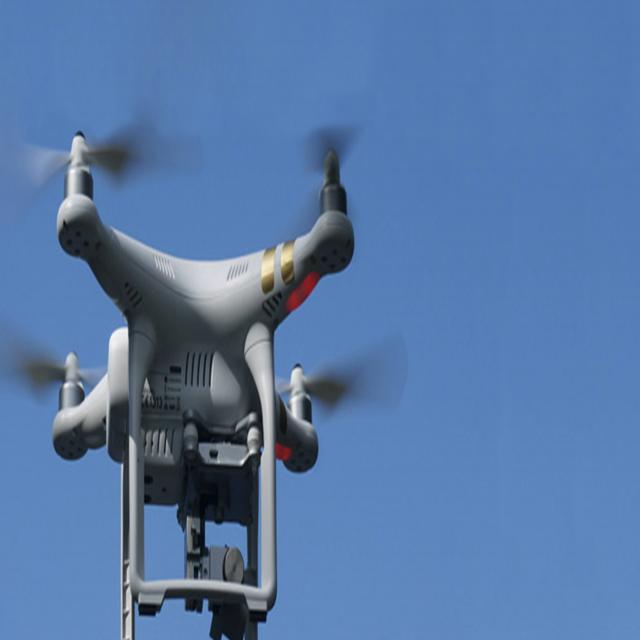drone: (0, 96, 443, 537)
